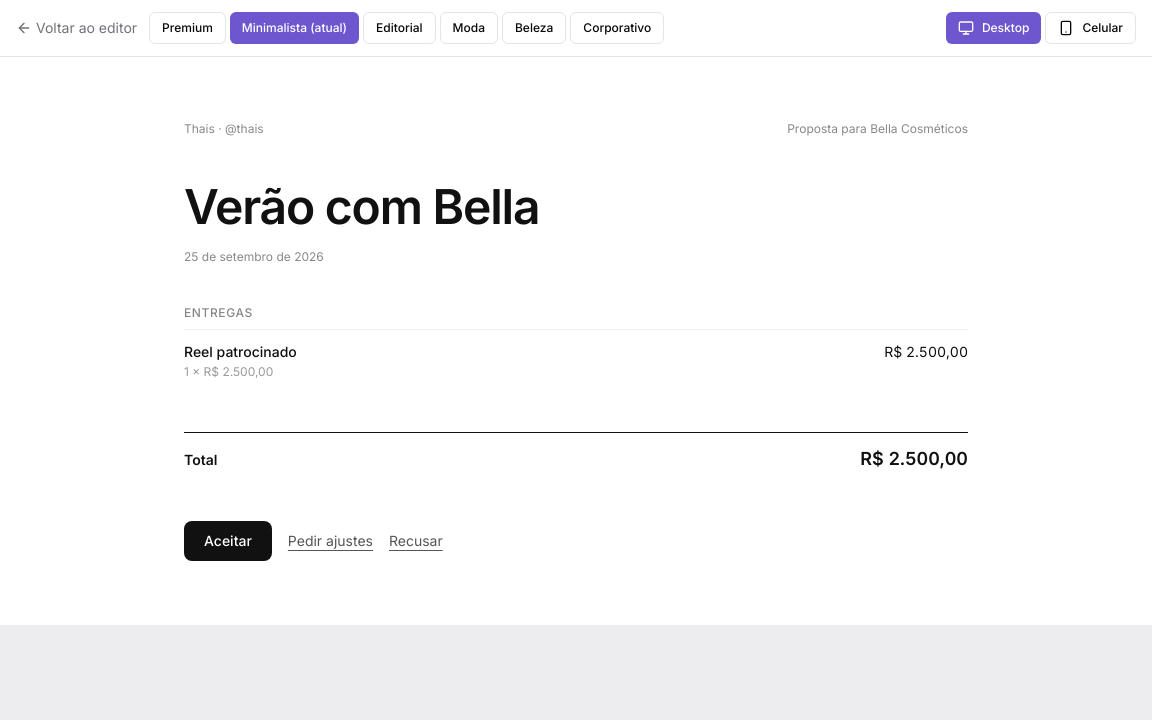
Test case: PreviewShell › shows 'Aplicar este tema' only for a different theme on a non-archived proposal
Expected: the button "Aplicar este tema" is not shown
Click the button "Premium" at (187, 28), box [149,12,226,44]
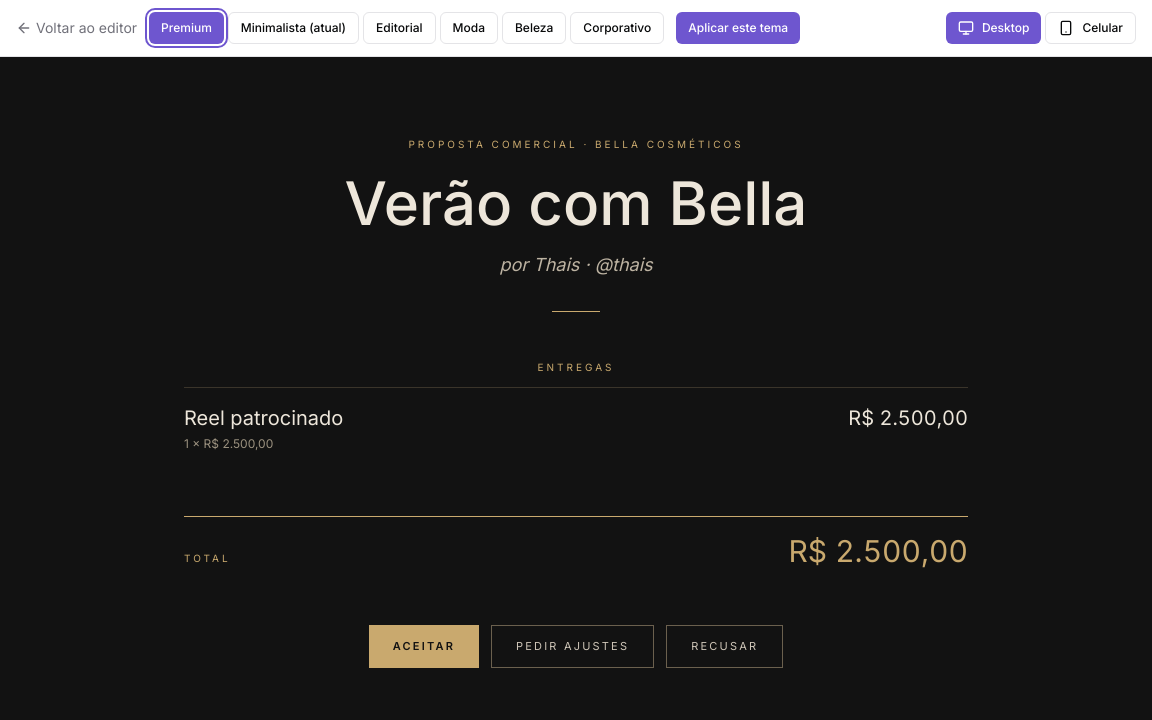
Result: the button "Aplicar este tema" is shown at [676,12,800,44]
